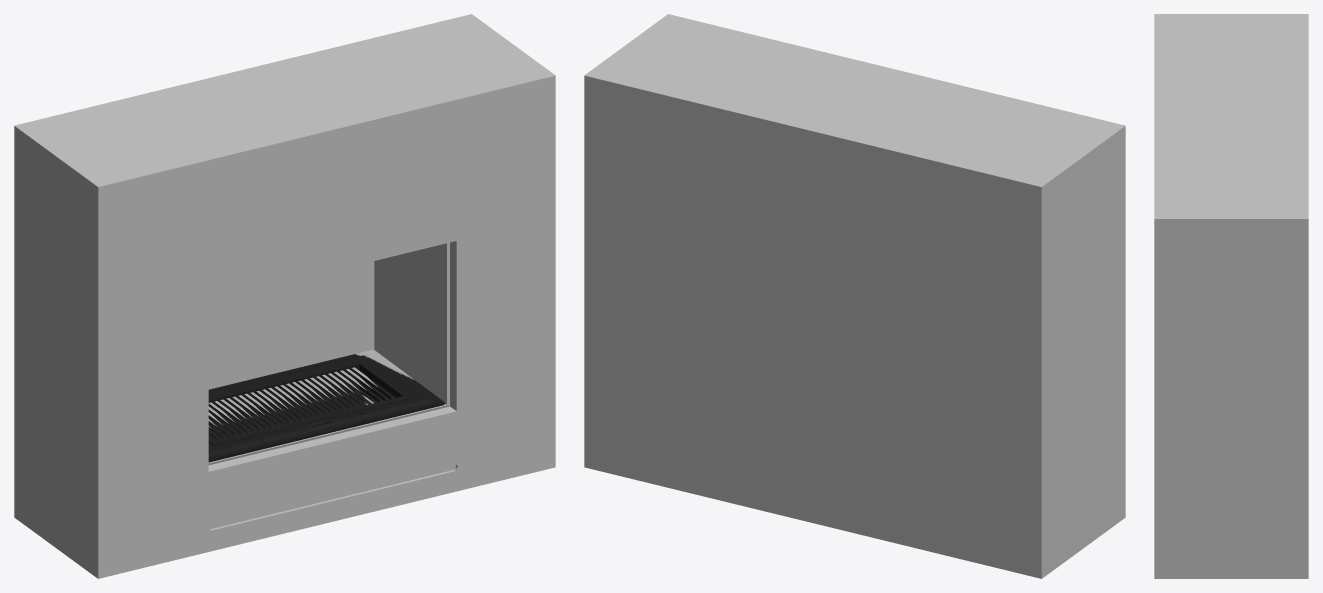
File: Lessing.fbx
3 views of the same model, side by side, from view 1: azimuth 30°, elevation 25°; view 2: azimuth 150°, elevation 25°; view 3: azimuth 270°, elevation 25° (orthographic). The views are drawn at different scales.
Visible parts, largest first — view 1: Cube.020; view 2: Cube.020; view 3: Cube.020.
Boxes of the visible parts, <box> form: Cube.020: <box>14,14,555,578</box>; Cube.020: <box>584,14,1125,578</box>; Cube.020: <box>1154,14,1308,578</box>.
Bounding box in the file's own units: 220 × 180 × 70.
